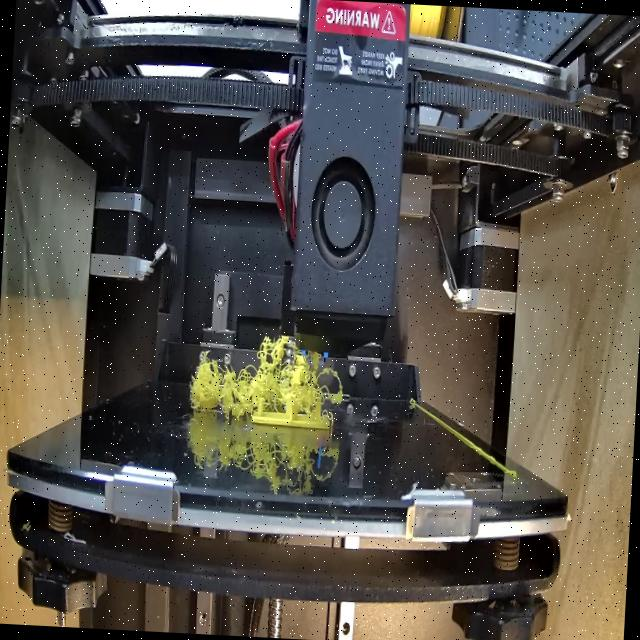spaghetti: (186, 322, 345, 420)
